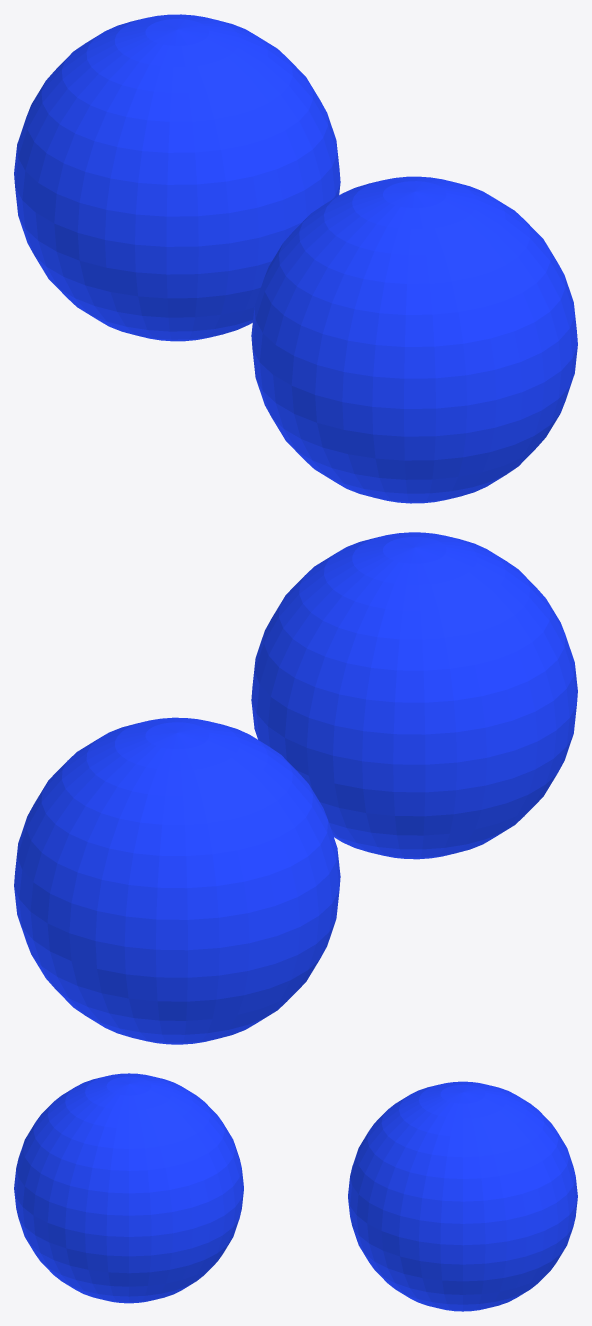
The model's file is Escudo.fbx.
3 views of the same model, one above another, from view 1: azimuth 30°, elevation 25°; view 2: azimuth 150°, elevation 25°; view 3: azimuth 270°, elevation 25° (orthographic). The views are drawn at different scales.
Parts seen in each view (by area): view 1: Sphere.002, Sphere.001; view 2: Sphere.001, Sphere.002; view 3: Sphere.001, Sphere.002.
Part boxes in pixels (x1,y1,x2,y2): Sphere.002: [251, 176, 577, 503]; Sphere.001: [14, 14, 340, 341]; Sphere.001: [14, 717, 340, 1044]; Sphere.002: [251, 532, 577, 859]; Sphere.001: [348, 1081, 577, 1311]; Sphere.002: [14, 1073, 243, 1303].
Size of the model in its own units: 200 by 208 by 490.
